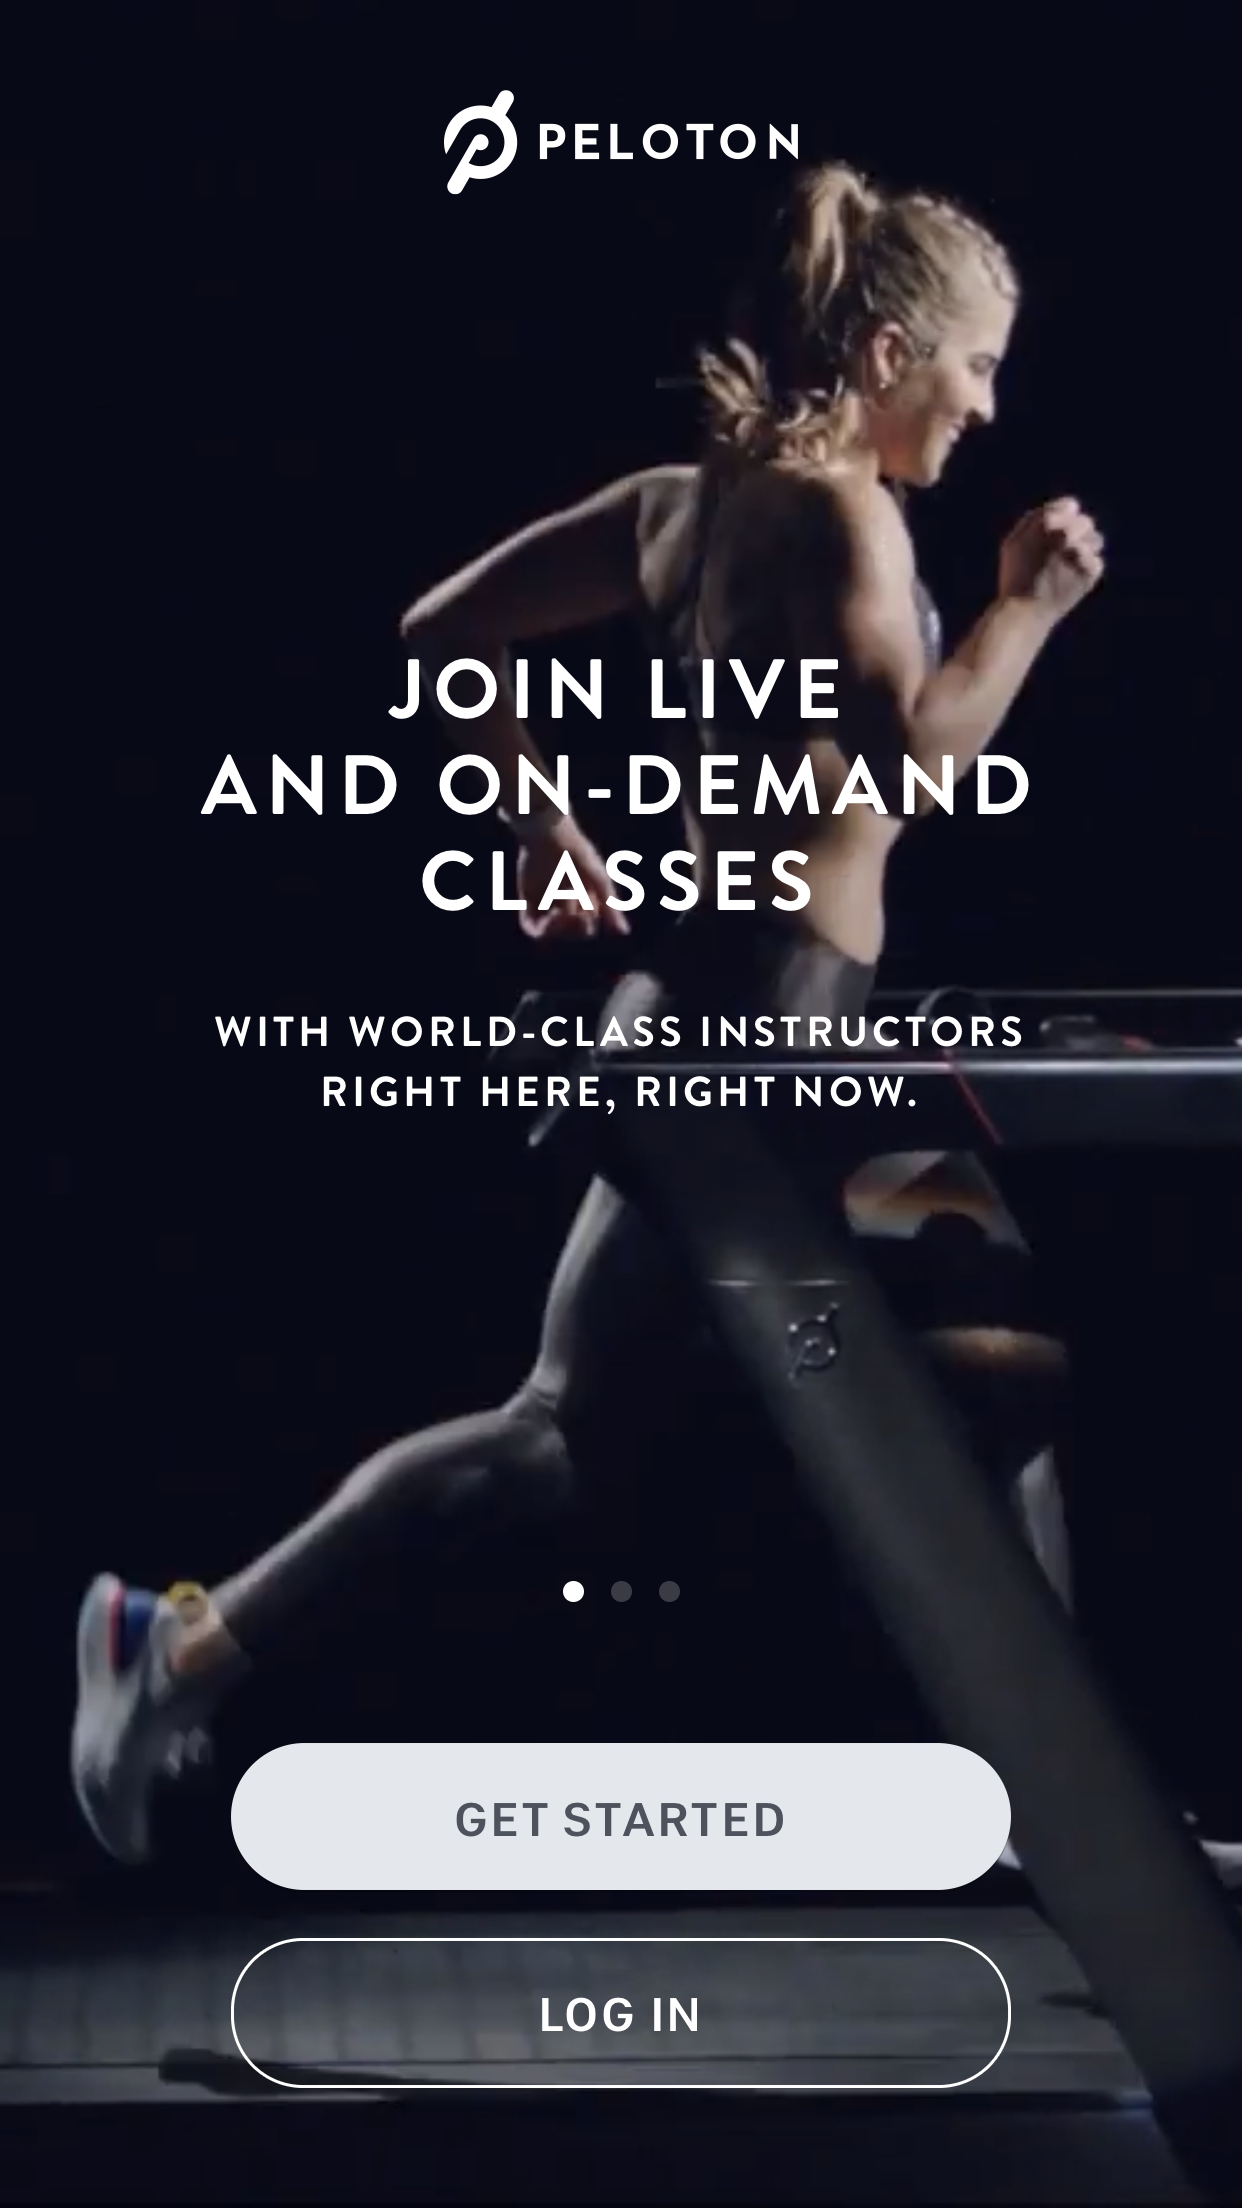BackgroundImage: (2, 2, 1242, 2208)
Image: (444, 89, 519, 196)
PageIndicator: (563, 1579, 682, 1603)
Text: (202, 658, 1030, 913), (215, 1016, 1022, 1116), (540, 124, 799, 161)
TextButton: (231, 1937, 1011, 2090), (231, 1742, 1011, 1891)
